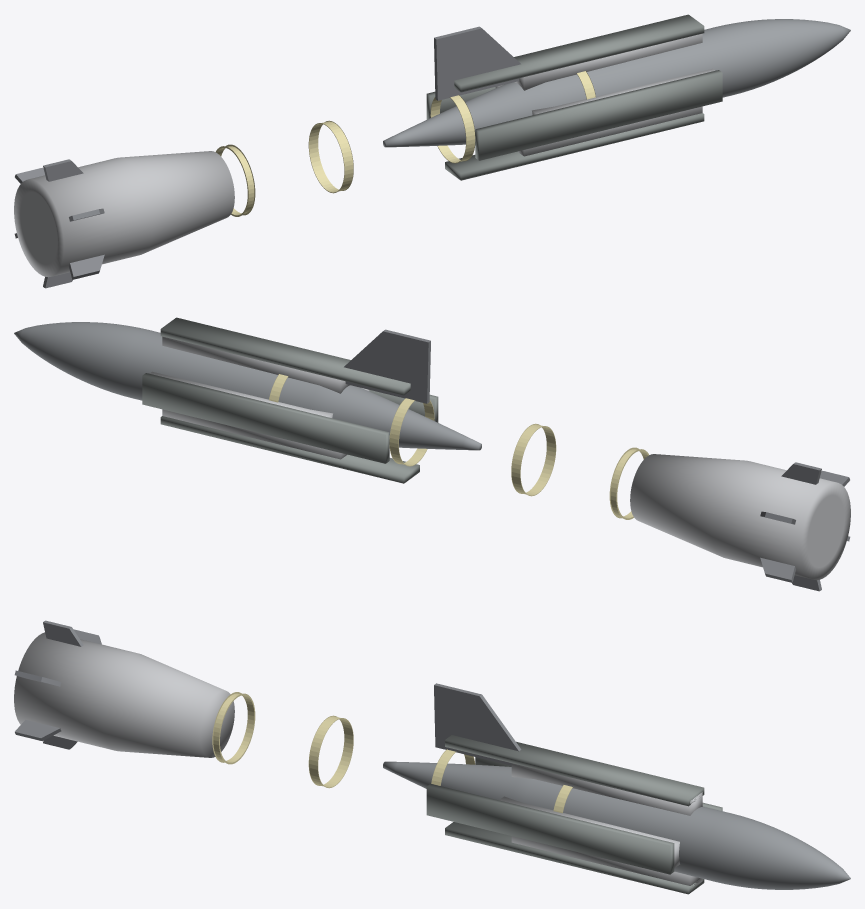
The model's file is RU_ASM_P1000_LOD0.fbx.
3 views of the same model, one above another, from view 1: azimuth 30°, elevation 25°; view 2: azimuth 150°, elevation 25°; view 3: azimuth 330°, elevation 25° (orthographic).
Parts seen in each view (by area): view 1: WPN_RU_ASM_P1000_LOD0_Tail, WPN_RU_ASM_P1000_LOD0_Nose, WPN_RU_ASM_P1000_LOD0_Body, WPN_RU_ASM_P1000_LOD0_Detail, WPN_RU_ASM_P1000_LOD0_Wings, WPN_RU_ASM_P1000_LOD0_Marking, WPN_RU_ASM_P1000_LOD0_Fins; view 2: WPN_RU_ASM_P1000_LOD0_Tail, WPN_RU_ASM_P1000_LOD0_Nose, WPN_RU_ASM_P1000_LOD0_Body, WPN_RU_ASM_P1000_LOD0_Detail, WPN_RU_ASM_P1000_LOD0_Wings, WPN_RU_ASM_P1000_LOD0_Marking, WPN_RU_ASM_P1000_LOD0_Fins; view 3: WPN_RU_ASM_P1000_LOD0_Tail, WPN_RU_ASM_P1000_LOD0_Body, WPN_RU_ASM_P1000_LOD0_Nose, WPN_RU_ASM_P1000_LOD0_Detail, WPN_RU_ASM_P1000_LOD0_Wings, WPN_RU_ASM_P1000_LOD0_Marking, WPN_RU_ASM_P1000_LOD0_Fins.
Boxes of the visible parts, x1,y1,x2,y2 form: WPN_RU_ASM_P1000_LOD0_Tail: [14, 151, 234, 277]; WPN_RU_ASM_P1000_LOD0_Nose: [426, 14, 722, 180]; WPN_RU_ASM_P1000_LOD0_Body: [383, 19, 850, 147]; WPN_RU_ASM_P1000_LOD0_Detail: [495, 33, 714, 156]; WPN_RU_ASM_P1000_LOD0_Wings: [434, 26, 520, 100]; WPN_RU_ASM_P1000_LOD0_Marking: [216, 71, 595, 216]; WPN_RU_ASM_P1000_LOD0_Fins: [14, 159, 104, 288]; WPN_RU_ASM_P1000_LOD0_Tail: [630, 454, 850, 580]; WPN_RU_ASM_P1000_LOD0_Nose: [142, 317, 438, 483]; WPN_RU_ASM_P1000_LOD0_Body: [14, 322, 481, 450]; WPN_RU_ASM_P1000_LOD0_Detail: [150, 336, 369, 459]; WPN_RU_ASM_P1000_LOD0_Wings: [344, 329, 430, 403]; WPN_RU_ASM_P1000_LOD0_Marking: [269, 374, 648, 519]; WPN_RU_ASM_P1000_LOD0_Fins: [760, 462, 850, 591]; WPN_RU_ASM_P1000_LOD0_Tail: [14, 632, 234, 757]; WPN_RU_ASM_P1000_LOD0_Body: [383, 761, 850, 889]; WPN_RU_ASM_P1000_LOD0_Nose: [426, 735, 722, 894]; WPN_RU_ASM_P1000_LOD0_Detail: [499, 763, 702, 887]; WPN_RU_ASM_P1000_LOD0_Wings: [434, 683, 521, 765]; WPN_RU_ASM_P1000_LOD0_Marking: [212, 692, 572, 813]; WPN_RU_ASM_P1000_LOD0_Fins: [14, 620, 101, 749].
Size of the model in its own units: 11.7 by 1.47 by 2.12.
